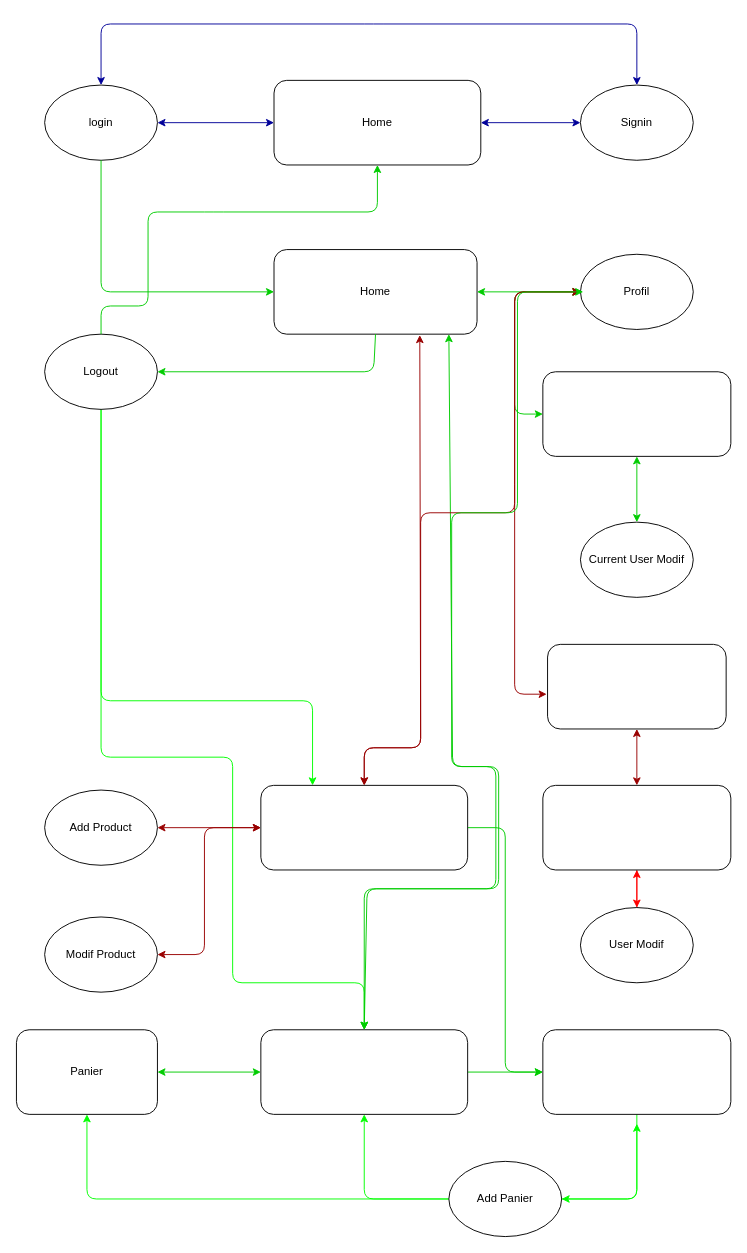
Image size: 747x1253. Some labels were removed from this diagram. Each missing label, with the centre of its shape:
"All User" belongs at (636,827).
"Check All Product" belongs at (364,1071).
"Check Own Product" belongs at (364,827).
"Detail Product" belongs at (636,1071).
"setting" belongs at (636,413).
"Setting Admin" belongs at (636,686).
